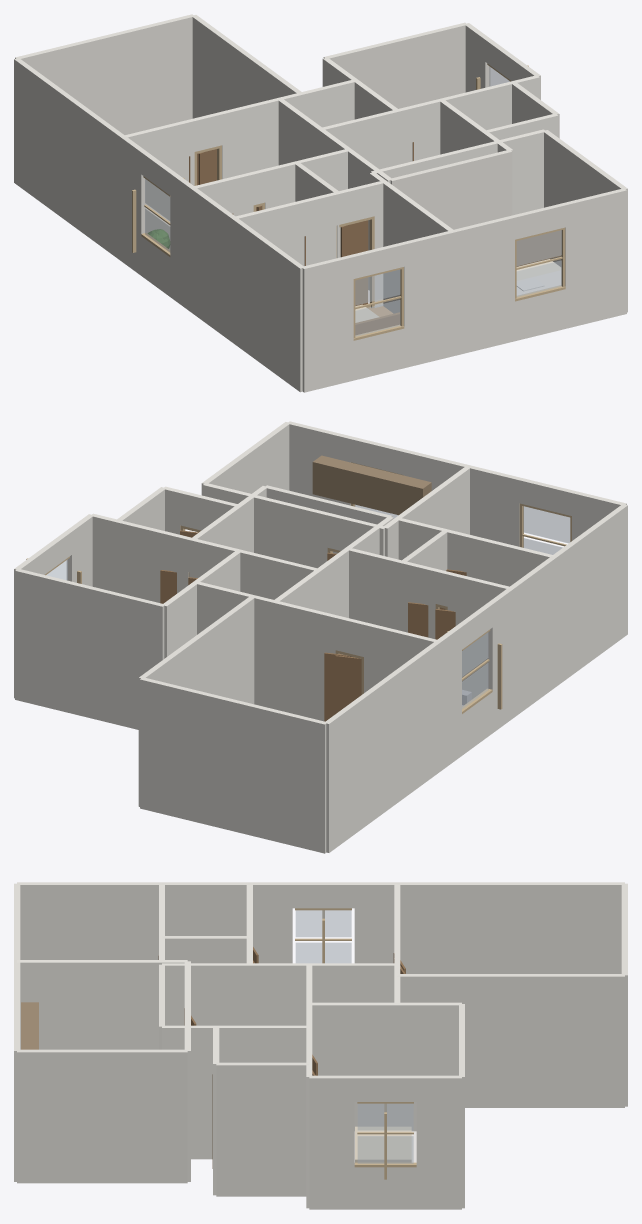
File: test-fixed2.glb
The picture shows the model from 3 angles, top to bottom: view 1: azimuth 30°, elevation 25°; view 2: azimuth 150°, elevation 25°; view 3: azimuth 270°, elevation 25°; orthographic projection. The views are drawn at different scales.
Visible parts, largest first — view 1: Wall_kitchen_front, Wall_bedroom_1_front, Wall_balcony_left, Wall_balcony_back, Wall_bedroom_1_left, Wall_bedroom_2_back, Wall_living_room_left, Wall_bedroom_1_back, Wall_stairs_front, Wall_balcony_front, Wall_balcony_right, Wall_bathroom_1_left (+32 smaller); view 2: Wall_balcony_back, Wall_bedroom_2_back, Wall_balcony_left, Wall_bedroom_1_left, Wall_living_room_back, Wall_living_room_left, Wall_balcony_right, Wall_bedroom_2_front, Wall_bedroom_1_front, Wall_kitchen_back, Wall_living_room_front, Wall_bathroom_1_left (+28 smaller); view 3: Wall_balcony_right, Wall_kitchen_right, Wall_balcony_left, Wall_bedroom_2_right, Wall_bathroom_2_right, Wall_kitchen_left, Wall_bedroom_1_left, Wall_bedroom_2_left, Wall_living_room_left, Wall_hallway_right, Wall_stairs_right, Wall_living_room_right (+20 smaller).
Part boxes in pixels (box(x1,y1,x2,y2)): Wall_kitchen_front: box(453, 188, 626, 355); Wall_bedroom_1_front: box(302, 231, 453, 392); Wall_balcony_left: box(14, 58, 124, 260); Wall_balcony_back: box(15, 14, 194, 134); Wall_bedroom_1_left: box(232, 217, 304, 392); Wall_bedroom_2_back: box(323, 22, 467, 108); Wall_living_room_left: box(121, 136, 193, 311); Wall_bedroom_1_back: box(234, 180, 384, 307); Wall_stairs_front: box(390, 150, 512, 229); Wall_balcony_front: box(124, 95, 302, 249); Wall_balcony_right: box(192, 15, 301, 118); Wall_bathroom_1_left: box(190, 187, 235, 341); Wall_balcony_back: box(140, 678, 326, 853); Wall_bedroom_2_back: box(15, 569, 164, 729); Wall_balcony_left: box(324, 641, 440, 852); Wall_bedroom_1_left: box(553, 504, 627, 686); Wall_living_room_back: box(273, 600, 439, 721); Wall_living_room_left: box(437, 588, 513, 770); Wall_balcony_right: box(138, 596, 254, 806); Wall_bedroom_2_front: box(91, 513, 240, 602); Wall_bedroom_1_front: box(468, 465, 626, 546); Wall_kitchen_back: box(202, 483, 386, 568); Wall_living_room_front: box(349, 548, 510, 699); Wall_bathroom_1_left: box(510, 556, 556, 717); Wall_balcony_right: box(397, 974, 624, 1107); Wall_kitchen_right: box(17, 1049, 187, 1183); Wall_balcony_left: box(397, 882, 624, 973); Wall_bedroom_2_right: box(309, 1075, 461, 1209); Wall_bathroom_2_right: box(216, 1062, 309, 1196); Wall_kitchen_left: box(17, 960, 187, 1049); Wall_bedroom_1_left: box(17, 882, 161, 959); Wall_bedroom_2_left: box(312, 1002, 461, 1131); Wall_living_room_left: box(250, 882, 397, 963); Wall_hallway_right: box(312, 1002, 397, 1130); Wall_stairs_right: box(162, 1025, 309, 1159); Wall_living_room_right: box(250, 963, 394, 1025).
Size of the model in its own units: 10.08 by 2.8 by 11.87.
